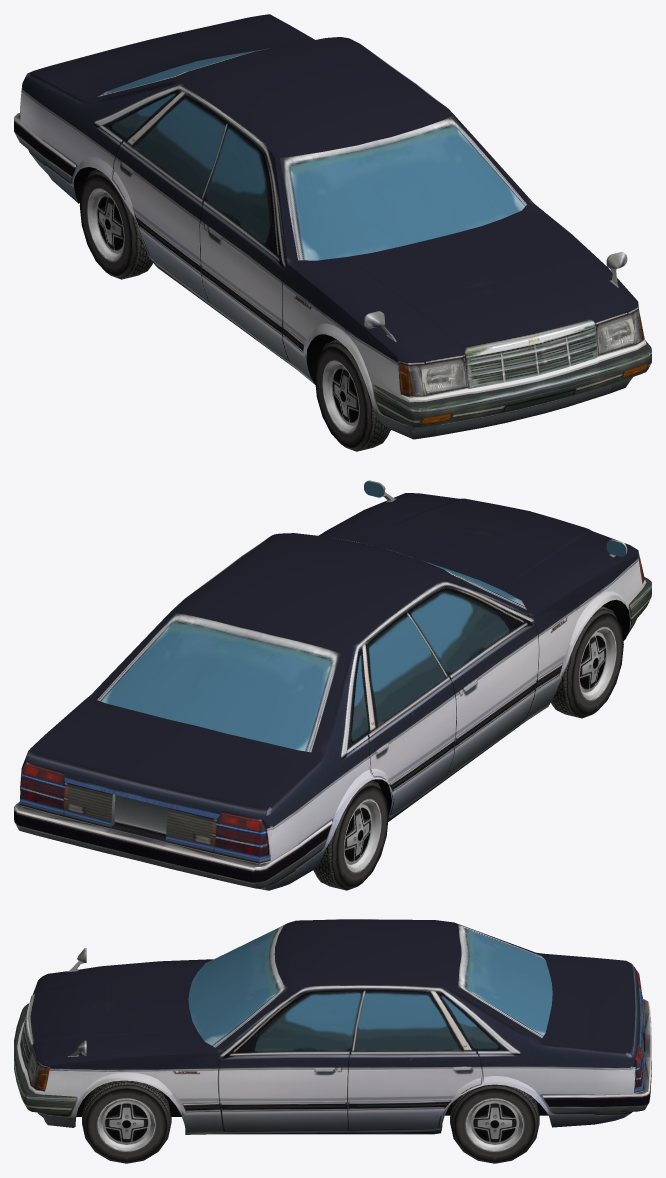
Rendered from Car_Old.fbx.
The picture shows the model from 3 angles, top to bottom: view 1: azimuth 30°, elevation 25°; view 2: azimuth 150°, elevation 25°; view 3: azimuth 270°, elevation 25°; orthographic projection. The views are drawn at different scales.
Visible parts, largest first — view 1: Car_Old, Wheel_1R.001, Wheel_2.001; view 2: Car_Old, Wheel_1R.001, Wheel_2.001; view 3: Car_Old, Wheel_1L.001, Wheel_2.002.
Part boxes in pixels (x1,y1,x2,y2): Car_Old: (14,14,651,439); Wheel_1R.001: (315,339,390,451); Wheel_2.001: (79,169,152,279); Car_Old: (14,480,651,890); Wheel_1R.001: (551,606,623,718); Wheel_2.001: (313,780,388,890); Car_Old: (14,919,651,1134); Wheel_1L.001: (82,1080,171,1163); Wheel_2.002: (450,1084,539,1163).
Bounding box in the file's own units: 1.88 × 1.47 × 5.01.
2 materials, 2 textured.
